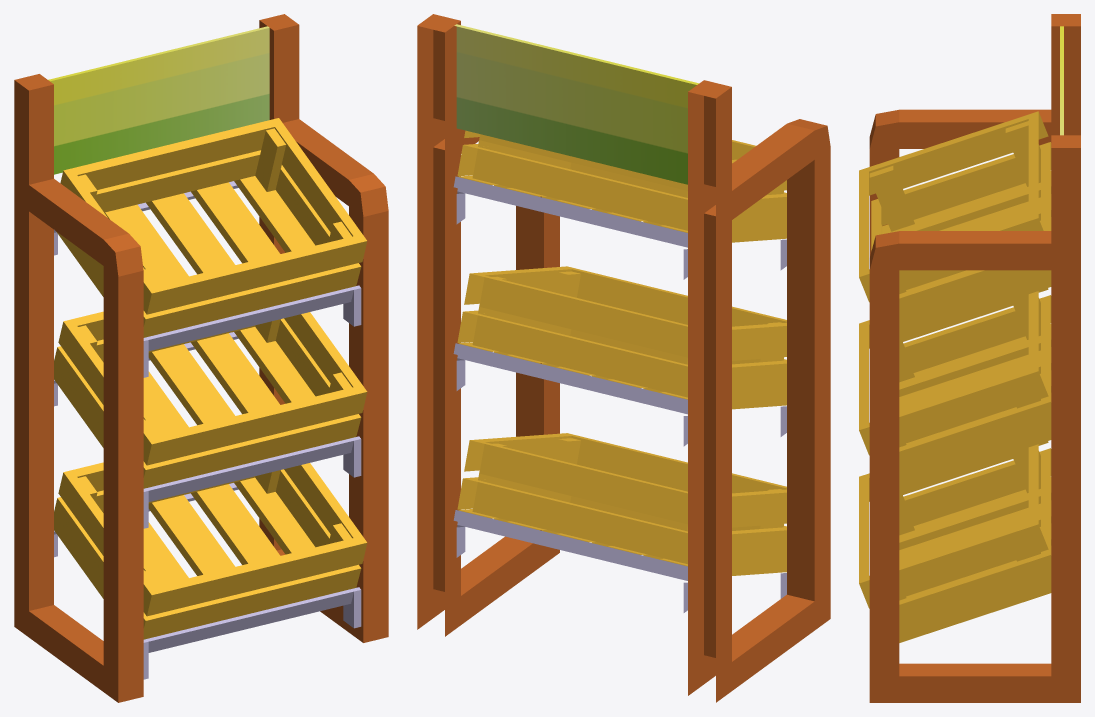
File: SM_ShelfB.fbx
3 views of the same model, side by side, from view 1: azimuth 30°, elevation 25°; view 2: azimuth 150°, elevation 25°; view 3: azimuth 270°, elevation 25° (orthographic). The views are drawn at different scales.
Parts seen in each view (by area): view 1: SM_ShelfB; view 2: SM_ShelfB; view 3: SM_ShelfB.
Boxes of the visible parts, x1=… form: SM_ShelfB: x1=14, y1=14, x2=388, y2=702; SM_ShelfB: x1=417, y1=14, x2=830, y2=702; SM_ShelfB: x1=859, y1=14, x2=1080, y2=702.
Size of the model in its own units: 75 by 145 by 52.55.
